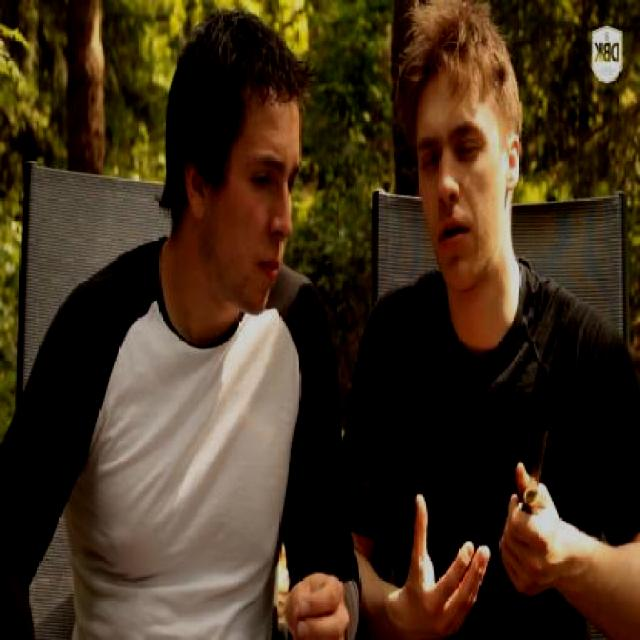knife: (497, 422, 563, 566)
